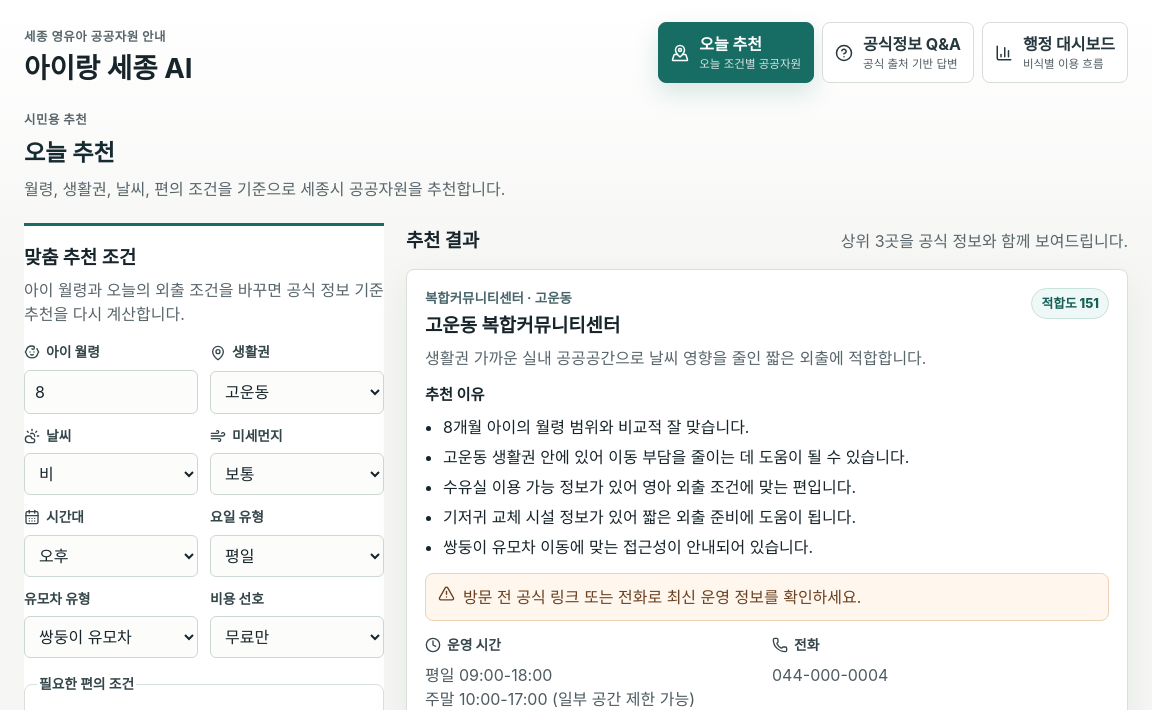
아이랑 세종 AI UI › shows anonymized dashboard notice
Click the tab "행정 대시보드 비식별 이용 흐름": (1055, 53) [982, 22, 1128, 83]
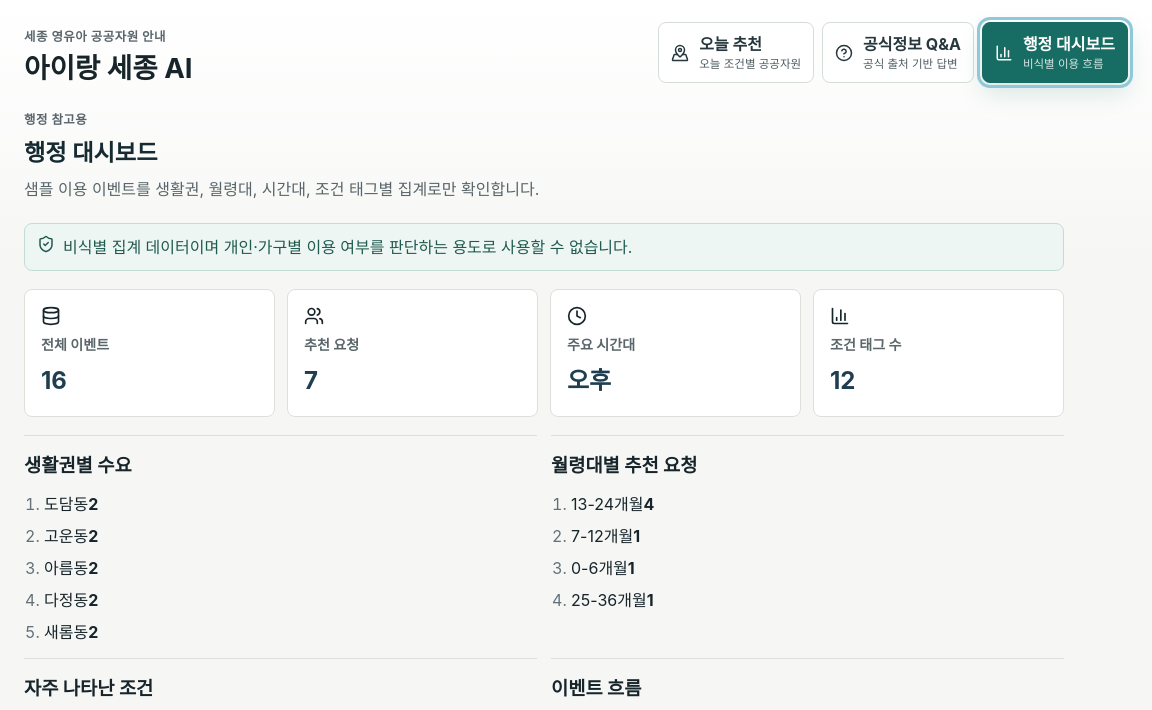
expect the text "비식별 집계 데이터이며 개인·가구별 이용 여부를 판단하는 용도로 사용할 수 없습니다." is shown: met, box [24, 223, 1064, 271]
expect the heading "행정 대시보드" is shown: met, box [24, 139, 158, 167]
expect the text "전체 이벤트" is shown: met, box [41, 336, 109, 353]
